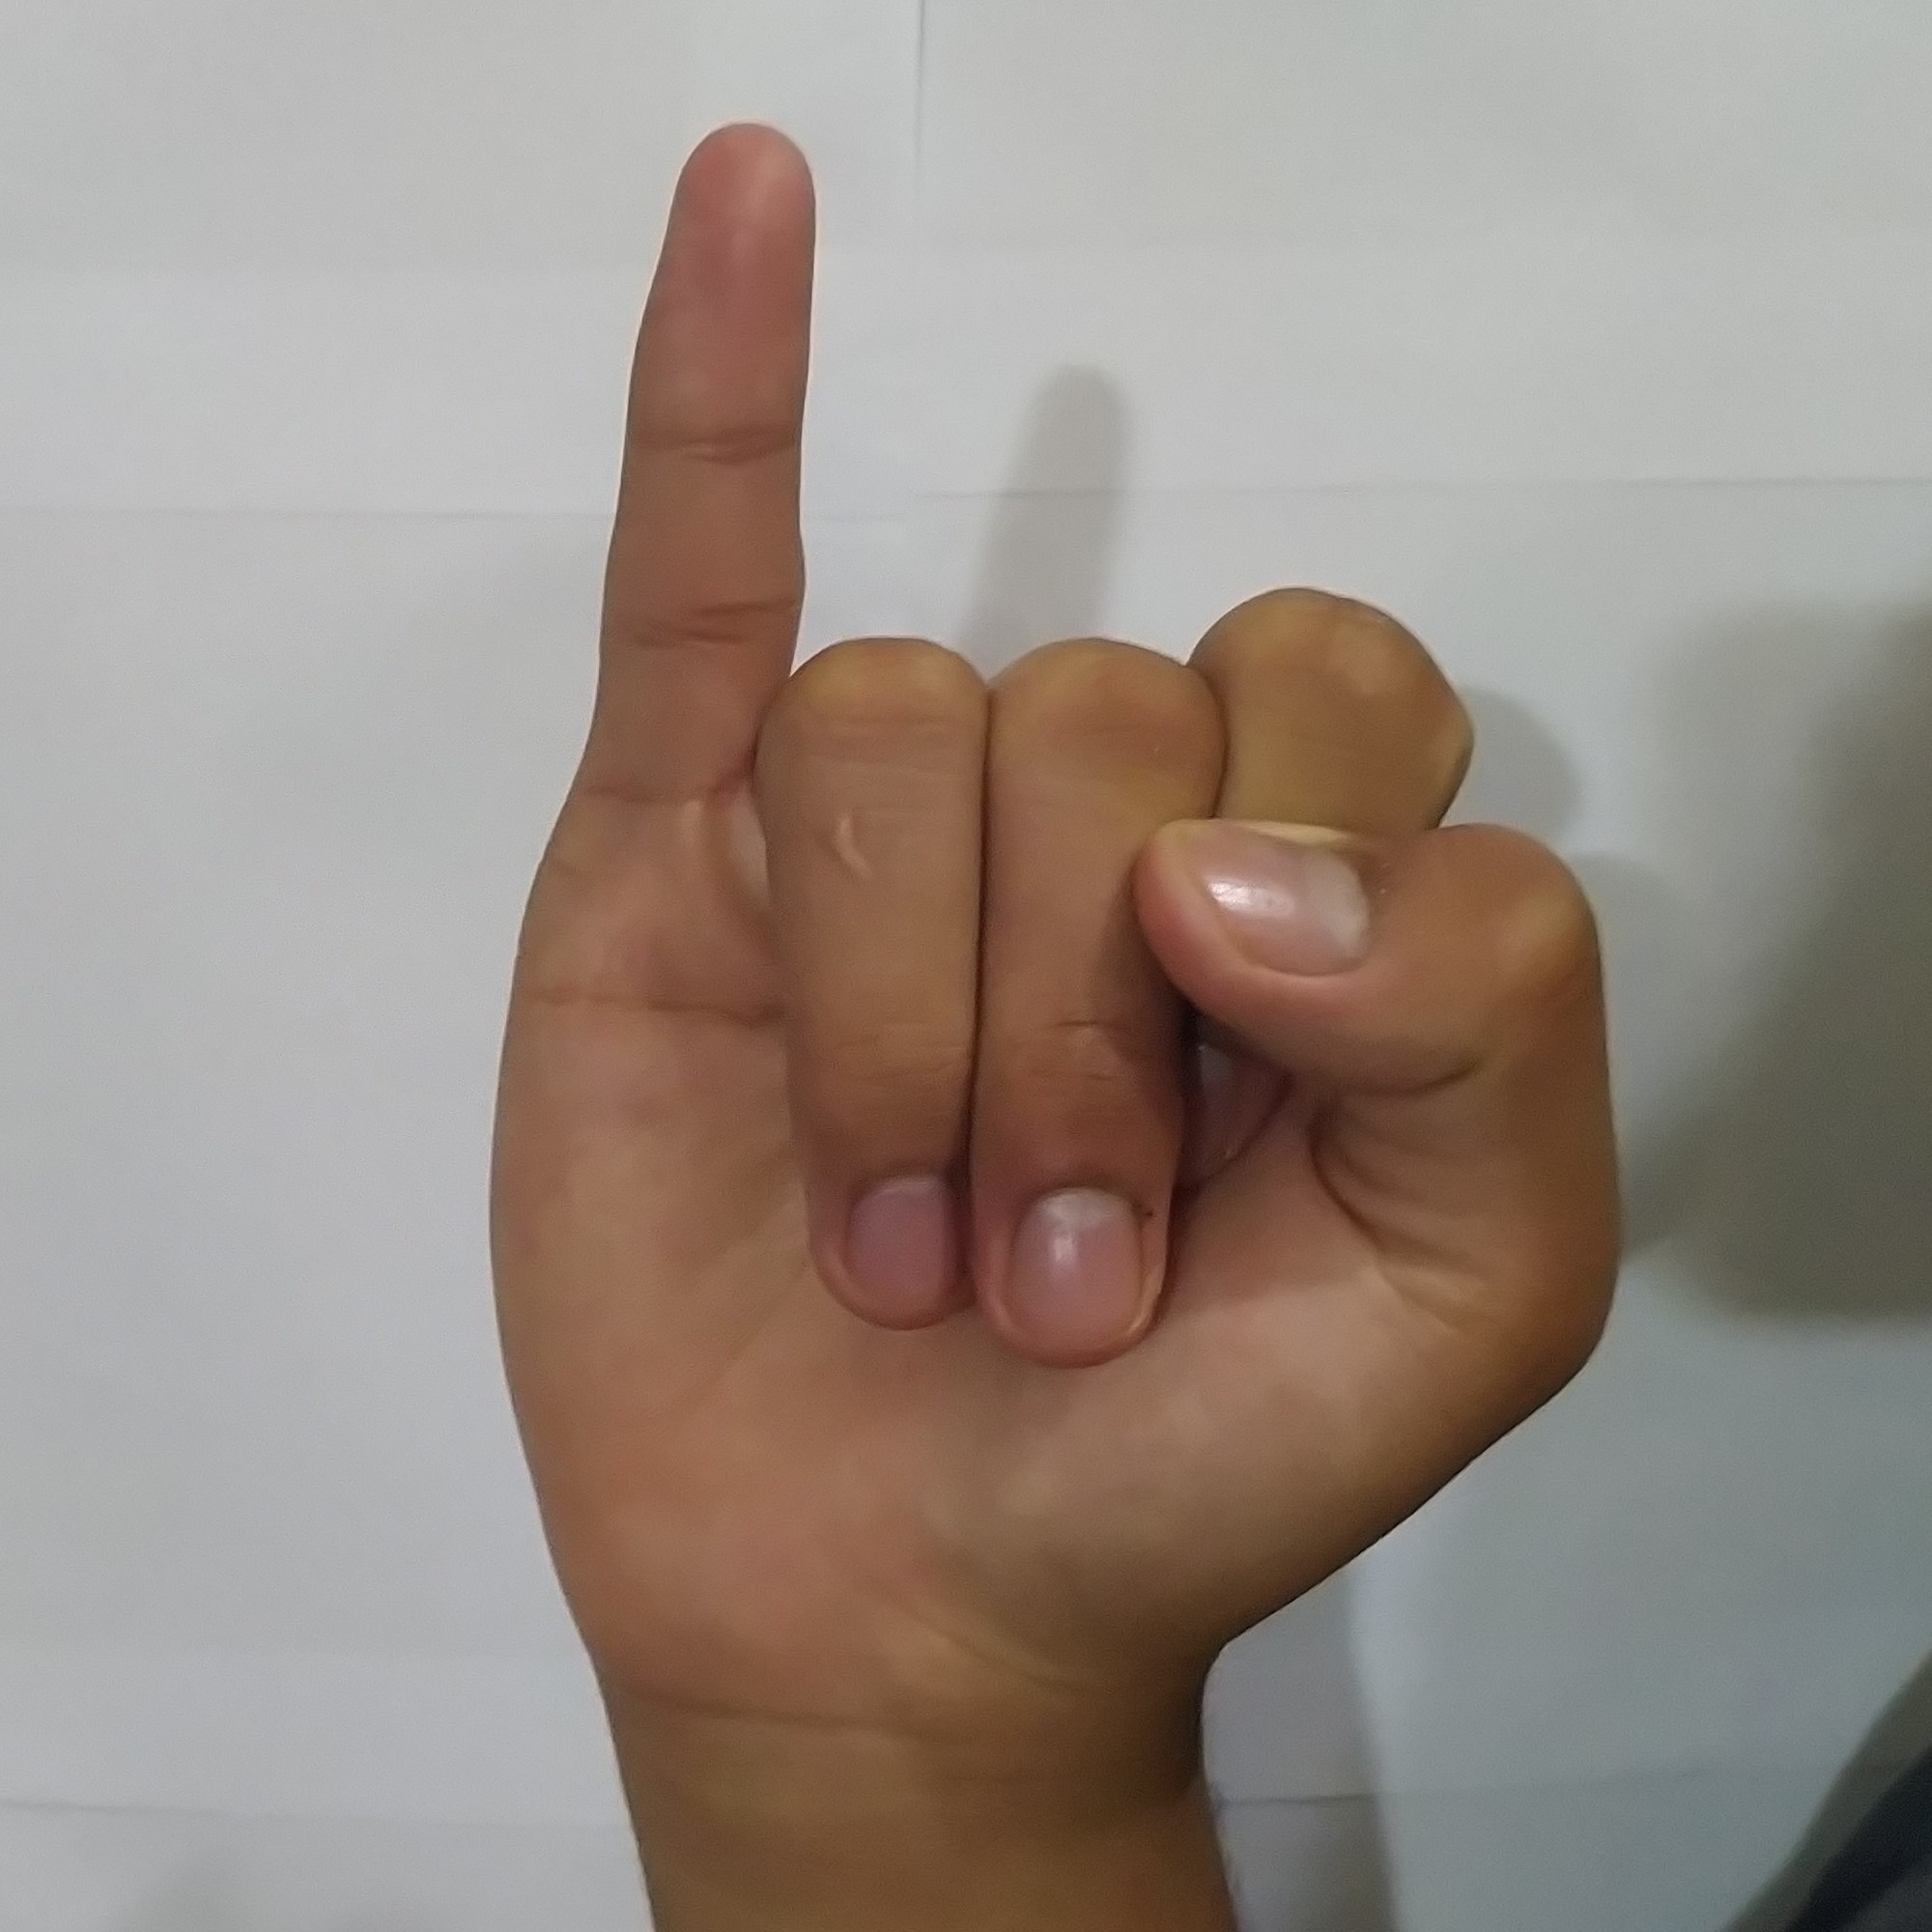I: (460, 92, 1647, 1700)
